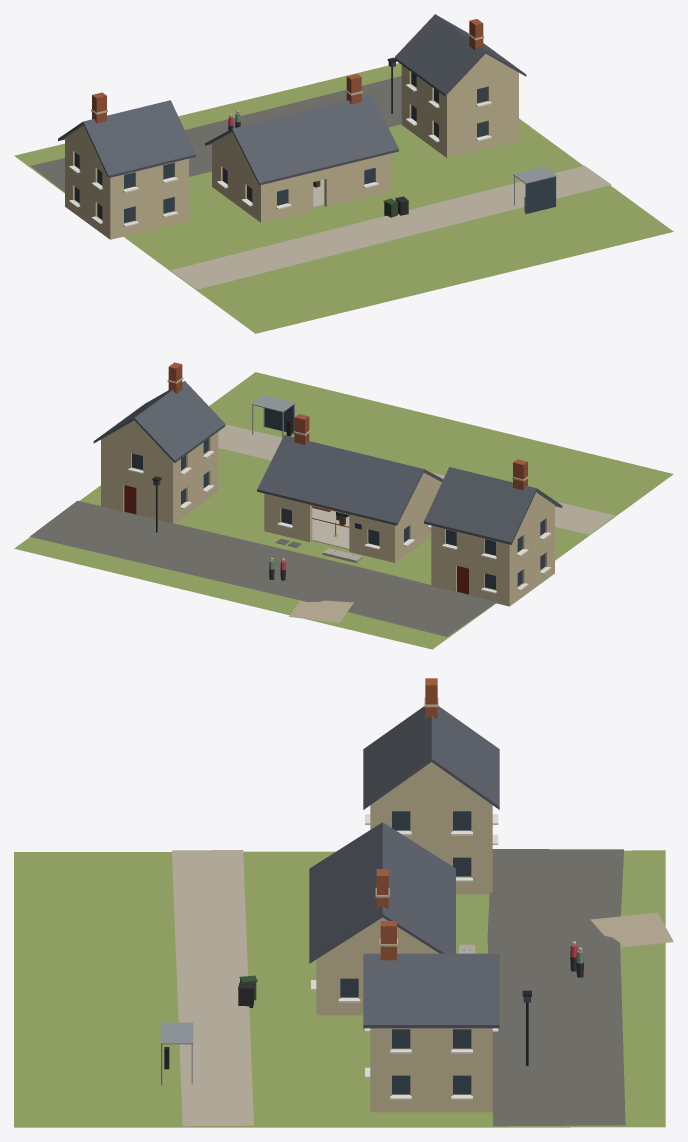
The model's file is forge.glb.
3 renders of one model, top to bottom at view 1: azimuth 30°, elevation 25°; view 2: azimuth 150°, elevation 25°; view 3: azimuth 270°, elevation 25°, orthographic. The views are drawn at different scales.
Parts seen in each view (by area): view 1: ground, ground_lanes, cut_roof_forge, street_2_shell, street_1_shell, forge_shell, cut_roof_street_1, cut_roof_street_2, street_1_walls, prop_smoke, street_2_walls, forge_walls; view 2: ground, ground_lanes, cut_roof_forge, street_2_shell, street_1_shell, cut_roof_street_1, forge_shell, cut_roof_street_2, street_1_walls, prop_smoke, forge_inside, street_2_walls (+1 smaller); view 3: ground, ground_lanes, cut_roof_forge, cut_roof_street_2, street_2_shell, cut_roof_street_1, street_1_shell, forge_shell, street_2_walls, street_1_walls, prop_smoke.
Part boxes in pixels (<box>): ground: <box>14,63,673,333</box>; ground_lanes: <box>30,76,611,289</box>; cut_roof_forge: <box>205,74,398,185</box>; street_2_shell: <box>401,53,518,157</box>; street_1_shell: <box>65,125,188,239</box>; forge_shell: <box>212,132,391,222</box>; cut_roof_street_1: <box>58,92,195,178</box>; cut_roof_street_2: <box>394,14,526,96</box>; street_1_walls: <box>69,152,178,226</box>; prop_smoke: <box>513,166,556,214</box>; street_2_walls: <box>405,72,491,142</box>; forge_walls: <box>216,168,378,209</box>; ground: <box>14,372,673,649</box>; ground_lanes: <box>30,424,614,636</box>; cut_roof_forge: <box>257,414,443,525</box>; street_2_shell: <box>101,420,218,523</box>; street_1_shell: <box>431,492,554,606</box>; cut_roof_street_1: <box>424,459,562,544</box>; forge_shell: <box>264,473,441,562</box>; cut_roof_street_2: <box>93,362,225,462</box>; street_1_walls: <box>442,519,551,594</box>; prop_smoke: <box>252,395,295,438</box>; forge_inside: <box>312,508,349,549</box>; street_2_walls: <box>124,439,214,514</box>; ground: <box>14,850,665,1127</box>; ground_lanes: <box>172,849,673,1126</box>; cut_roof_forge: <box>309,822,455,963</box>; cut_roof_street_2: <box>363,921,499,1028</box>; street_2_shell: <box>370,1028,492,1112</box>; cut_roof_street_1: <box>363,678,499,809</box>; street_1_shell: <box>370,762,492,894</box>; forge_shell: <box>316,917,439,1015</box>; street_2_walls: <box>365,1028,498,1099</box>; street_1_walls: <box>365,811,498,881</box>; prop_smoke: <box>160,1022,193,1085</box>.
Size of the model in its own units: 33.39 by 9.18 by 32.4.
